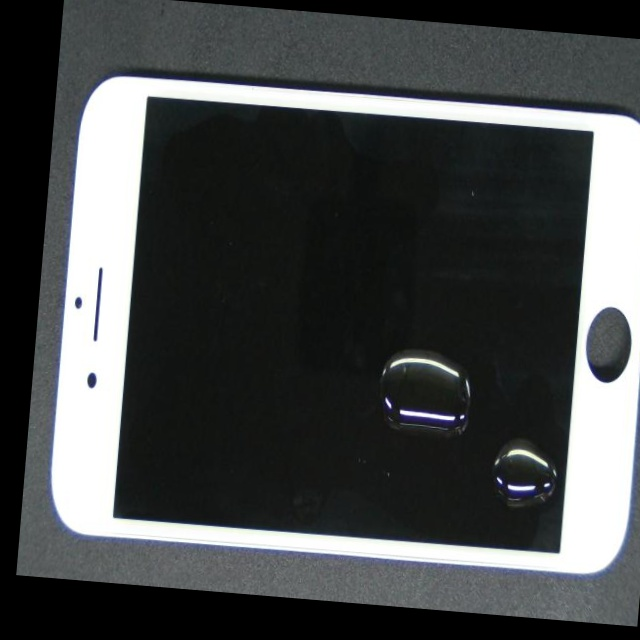oil: (267, 193, 640, 554), (298, 255, 640, 627)
